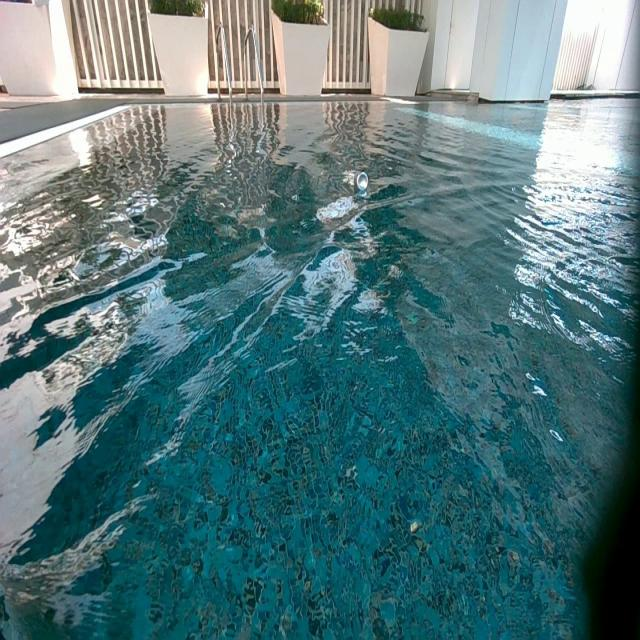Cans: (354, 172, 368, 190)
